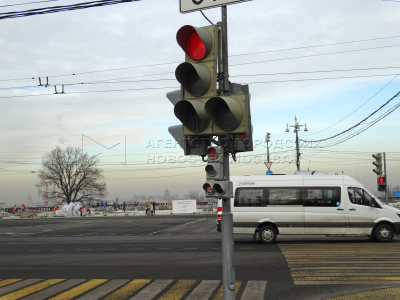trafficlight_red: (177, 27, 214, 132)
